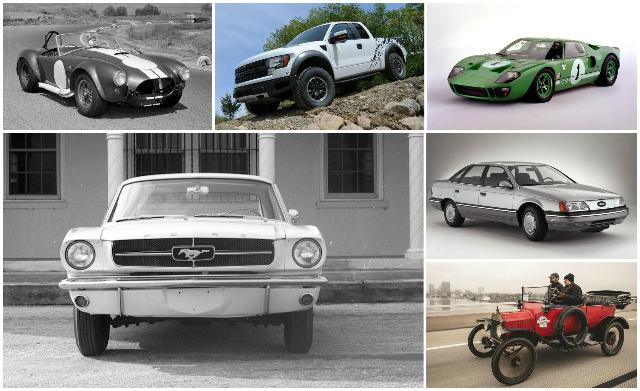ford: (58, 172, 328, 358), (233, 20, 409, 116), (428, 160, 630, 242), (467, 285, 631, 385), (16, 31, 190, 118), (448, 36, 620, 104)
